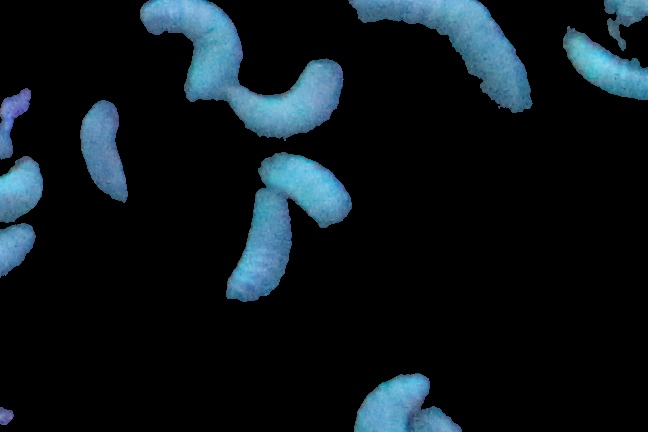larvae: (339, 1, 536, 115), (136, 1, 243, 114), (228, 58, 345, 144), (78, 94, 147, 216), (253, 158, 357, 233), (230, 191, 291, 310), (566, 26, 648, 100), (353, 359, 430, 432), (1, 154, 53, 239), (1, 221, 41, 284)
